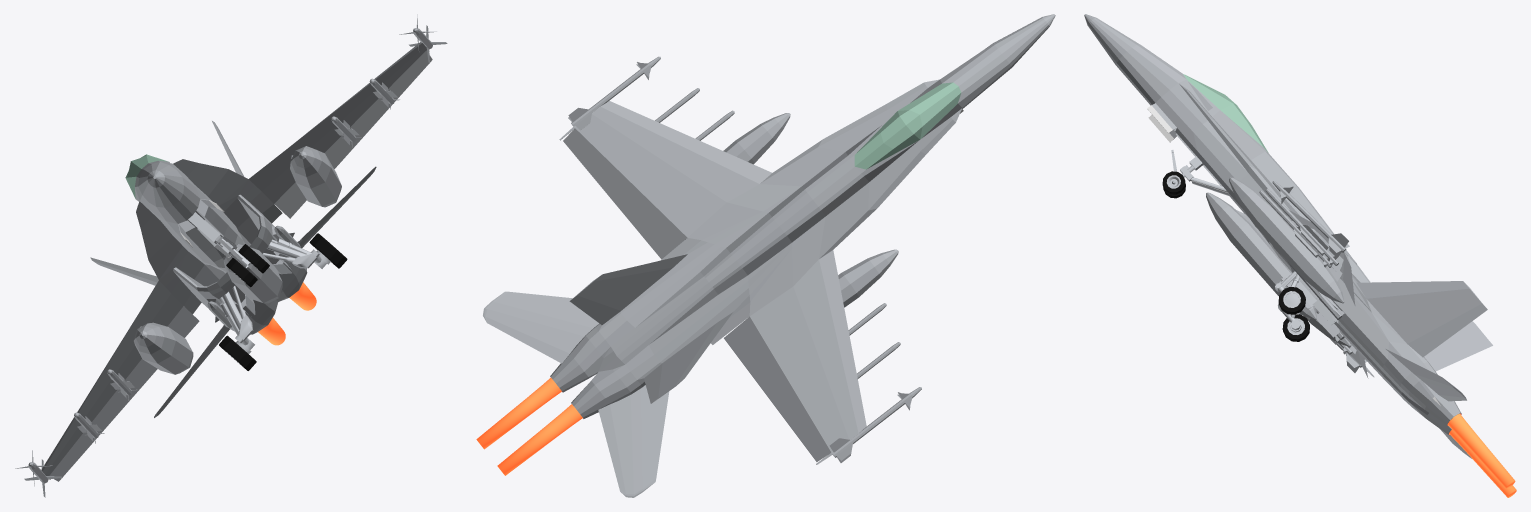
The model's file is scene.gltf.glb.
3 views of the same model, side by side, from view 1: azimuth 30°, elevation 25°; view 2: azimuth 150°, elevation 25°; view 3: azimuth 270°, elevation 25° (orthographic). The views are drawn at different scales.
Visible parts, largest first — view 1: aircraft_0; view 2: aircraft_0; view 3: aircraft_0.
Part boxes in pixels (left/top/right/bottom): aircraft_0: left=15, top=14, right=447, bottom=497; aircraft_0: left=476, top=14, right=1055, bottom=497; aircraft_0: left=1084, top=14, right=1516, bottom=497.
Bounding box in the file's own units: 7.1 × 7.05 × 7.89.
